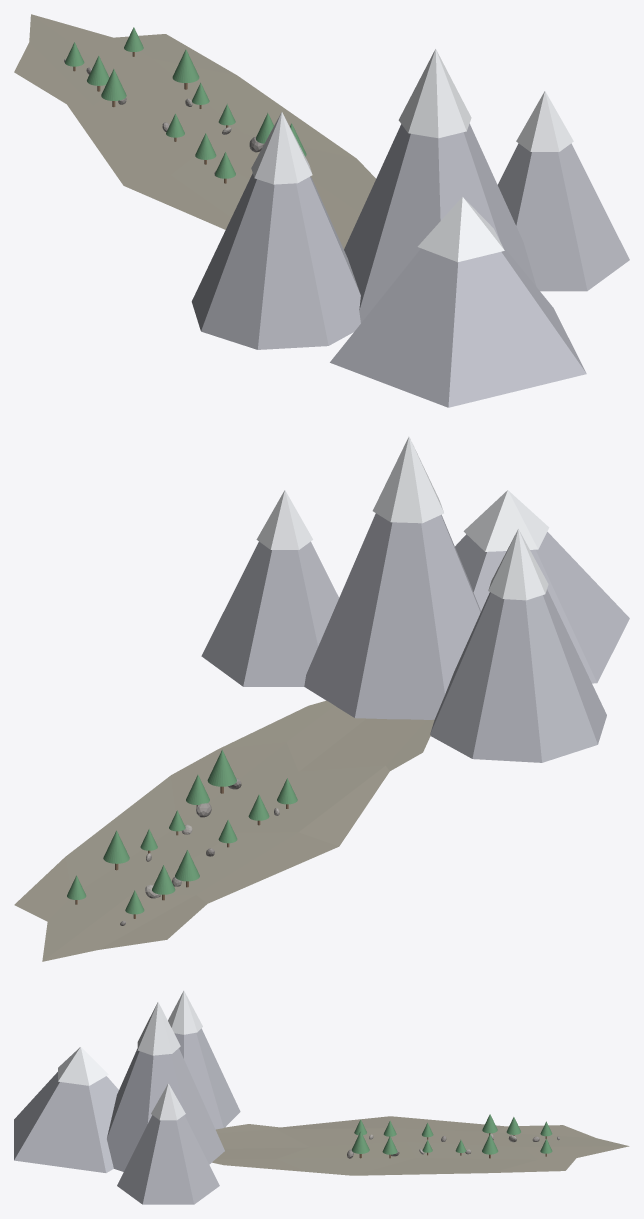
The model's file is Montagne_Sentier.fbx.
3 views of the same model, one above another, from view 1: azimuth 30°, elevation 25°; view 2: azimuth 150°, elevation 25°; view 3: azimuth 270°, elevation 25° (orthographic). The views are drawn at different scales.
Parts seen in each view (by area): view 1: Env_Sol.004, Env_Montagne3.001, Env_Montagne0.001, Env_Montagne1.004, Env_Montagne2.004, Env_Neige1.004, Env_Neige3.001, Env_Neige0.001, Env_Neige2.001; view 2: Env_Sol.004, Env_Montagne1.004, Env_Montagne0.001, Env_Montagne2.004, Env_Montagne3.001, Env_Neige1.004, Env_Neige3.001, Env_Neige0.001, Env_Neige2.001; view 3: Env_Sol.004, Env_Montagne3.001, Env_Montagne1.004, Env_Montagne2.004, Env_Montagne0.001, Env_Neige1.004, Env_Neige3.001, Env_Neige0.001, Env_Neige2.001.
Boxes of the visible parts, x1=… form: Env_Sol.004: x1=14, y1=14, x2=375, y2=249; Env_Montagne3.001: x1=330, y1=245, x2=586, y2=407; Env_Montagne0.001: x1=191, y1=173, x2=360, y2=349; Env_Montagne1.004: x1=344, y1=123, x2=536, y2=322; Env_Montagne2.004: x1=498, y1=143, x2=629, y2=291; Env_Neige1.004: x1=398, y1=49, x2=471, y2=138; Env_Neige3.001: x1=417, y1=196, x2=504, y2=262; Env_Neige0.001: x1=251, y1=112, x2=312, y2=184; Env_Neige2.001: x1=516, y1=91, x2=573, y2=151; Env_Sol.004: x1=14, y1=700, x2=434, y2=961; Env_Montagne1.004: x1=304, y1=513, x2=480, y2=719; Env_Montagne0.001: x1=430, y1=589, x2=606, y2=762; Env_Montagne2.004: x1=201, y1=541, x2=338, y2=686; Env_Montagne3.001: x1=455, y1=532, x2=629, y2=683; Env_Neige1.004: x1=372, y1=436, x2=443, y2=523; Env_Neige3.001: x1=463, y1=490, x2=549, y2=551; Env_Neige0.001: x1=488, y1=529, x2=548, y2=600; Env_Neige2.001: x1=256, y1=490, x2=312, y2=549; Env_Sol.004: x1=212, y1=1116, x2=629, y2=1175; Env_Montagne3.001: x1=14, y1=1072, x2=118, y2=1172; Env_Montagne1.004: x1=107, y1=1048, x2=224, y2=1171; Env_Montagne2.004: x1=117, y1=1115, x2=219, y2=1204; Env_Montagne0.001: x1=174, y1=1028, x2=240, y2=1129; Env_Neige1.004: x1=137, y1=1002, x2=180, y2=1055; Env_Neige3.001: x1=58, y1=1047, x2=108, y2=1085; Env_Neige0.001: x1=168, y1=990, x2=202, y2=1034; Env_Neige2.001: x1=151, y1=1083, x2=185, y2=1120.
Bounding box in the file's own units: 5366 × 3235 × 11946.
